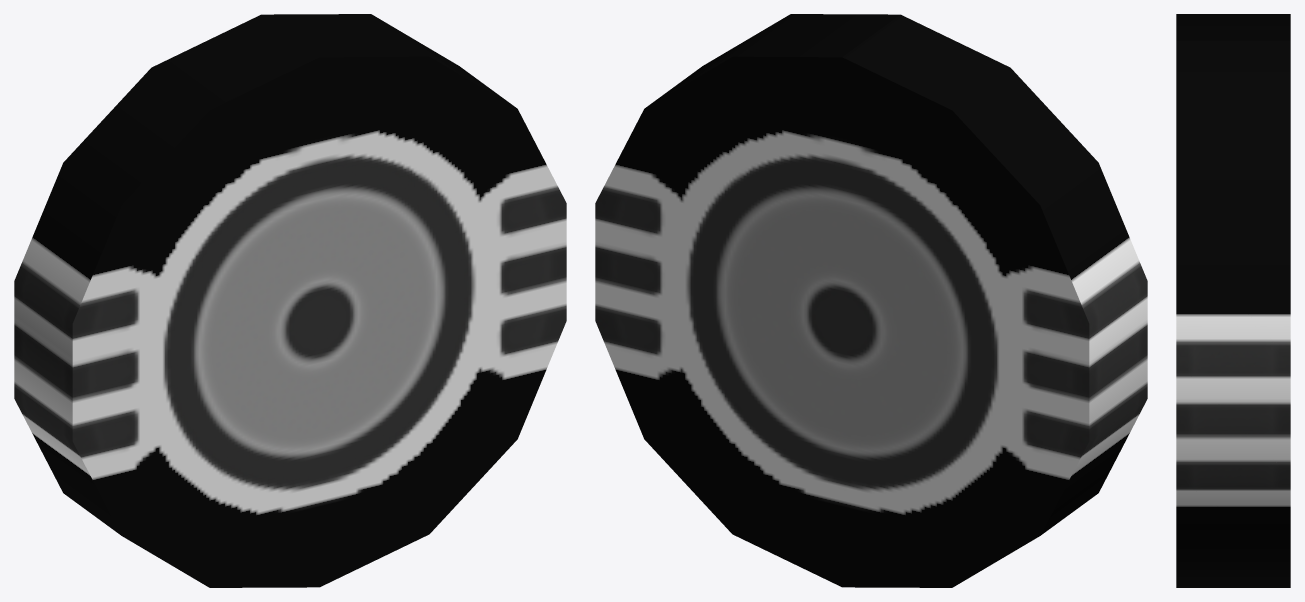
Rendered from obj_interactive_bearing.fbx.
The picture shows the model from 3 angles, left to right: view 1: azimuth 30°, elevation 25°; view 2: azimuth 150°, elevation 25°; view 3: azimuth 270°, elevation 25°; orthographic projection.
Visible parts, largest first — view 1: obj_interactive_bearing_lod0; view 2: obj_interactive_bearing_lod0; view 3: obj_interactive_bearing_lod0.
Part boxes in pixels (bbox=[...]): obj_interactive_bearing_lod0: bbox=[14, 14, 566, 587]; obj_interactive_bearing_lod0: bbox=[595, 14, 1147, 587]; obj_interactive_bearing_lod0: bbox=[1176, 14, 1290, 587].
Bounding box in the file's own units: 0.8896 × 0.9125 × 0.1821.
Materials: 1 (1 with a texture image).
